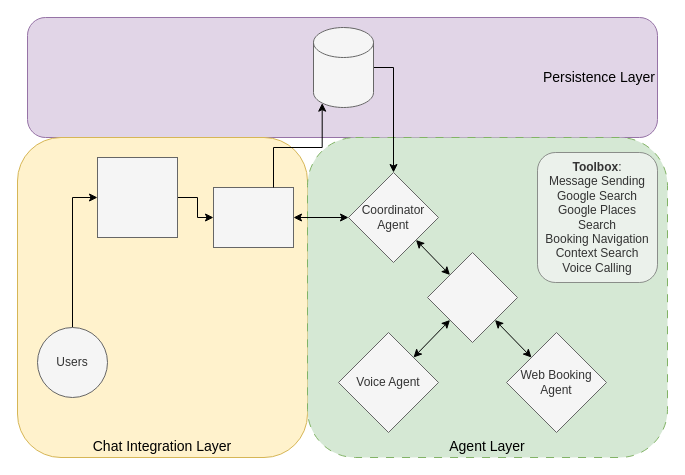
The diagram is 685 pixels wide and 475 high, and some of its shapes have lost their labels. The shapes that lost their labels are listed below. From the top down, each one's centre as x and y in pixels, then its label:
At [343,67]: "Context Store".
At [137,197]: "Telegram Server".
At [253,217]: "Telegram Bot".
At [472,297]: "Booking Agent".
